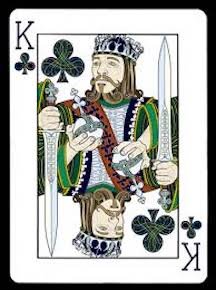KingOfClubs: (6, 6, 210, 287)
